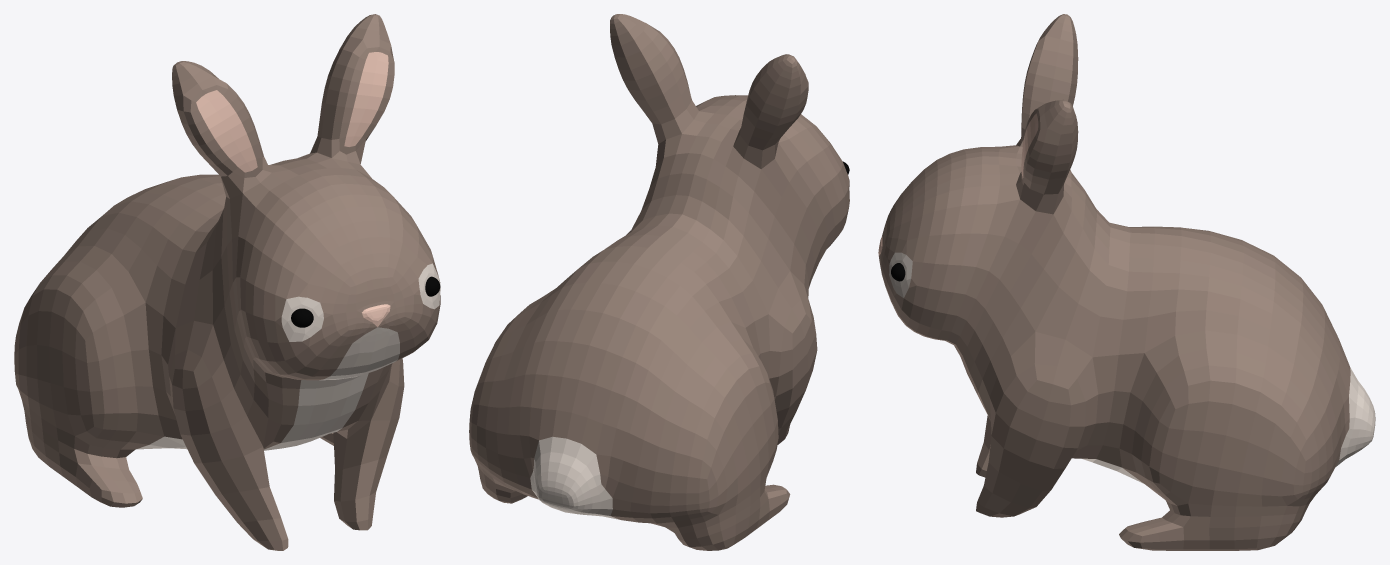
The model's file is Rabbit_Subdivided.fbx.
3 renders of one model, left to right at view 1: azimuth 30°, elevation 25°; view 2: azimuth 150°, elevation 25°; view 3: azimuth 270°, elevation 25°, orthographic. The views are drawn at different scales.
Parts seen in each view (by area): view 1: Plane; view 2: Plane; view 3: Plane.
Boxes of the visible parts, <box> form: Plane: <box>14,14,440,550</box>; Plane: <box>469,14,849,550</box>; Plane: <box>878,14,1375,550</box>.
Bounding box in the file's own units: 84.15 × 131 × 135.
